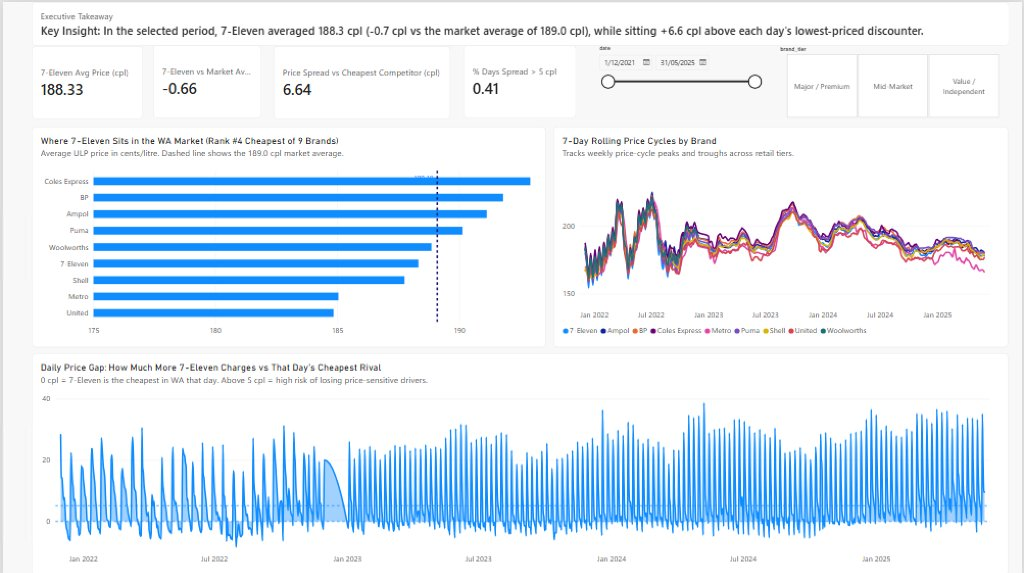

Layout of this report page (visuals, bound fields, positions):
{"tool":"powerbi","page":{"name":"Executive Overview ","canvas":[1920,1080],"ordinal":0},"visuals":[{"type":"slicer","fields":{"Values":["dim_date.date"]},"box":[1115.7,80.4,316.2,129.7],"z":0},{"type":"slicer","fields":{"Values":["dim_brand.brand_tier"]},"box":[1454.9,82.4,439.2,137.3],"z":1000},{"type":"cardVisual","fields":{"Data":["_Measures (2).7-Eleven Avg Price (cpl)"]},"box":[52.9,82.4,209.7,138.9],"z":2000},{"type":"cardVisual","fields":{"Data":["_Measures (2).7-Eleven vs Market Avg (cpl)"]},"box":[282.4,80.4,204.2,138.9],"z":3000},{"type":"cardVisual","fields":{"Data":["_Measures (2).Price Spread vs Cheapest Competitor (cpl)"]},"box":[509.8,82.4,333.3,138.9],"z":4000},{"type":"cardVisual","fields":{"Data":["_Measures (2).% Days Spread > 5 cpl"]},"box":[866.7,80.4,212.5,138.9],"z":5000},{"type":"clusteredBarChart","title":"Where 7-Eleven Sits in the WA Market (Rank #4 Cheapest of 9 Brands)","fields":{"Category":["dim_brand.brand_name"],"Y":["_Measures (2).Avg Retail Price (cpl)"]},"box":[52.9,235.3,968.6,415.7],"z":6000},{"type":"lineChart","title":"7-Day Rolling Price Cycles by Brand","fields":{"Category":["dim_date.date"],"Series":["dim_brand.brand_name"],"Y":["Avg(fact_daily_brand_pricing.rolling_7d_price_cpl)"]},"box":[1037.3,235.3,856.9,415.7],"z":7000},{"type":"areaChart","title":"Daily Price Gap: How Much More 7-Eleven Charges vs That Day''s Cheapest Rival","fields":{"Category":["dim_date.date"],"Y":["_Measures (2).Price Spread vs Cheapest Competitor (cpl)"]},"box":[53.2,660.7,1840.2,419],"z":8000},{"type":"cardVisual","fields":{"Data":["_Measures (2).Executive Takeaway"]},"box":[52.9,0,1841.2,82.4],"z":9000}]}

Visuals, with their boxes in screenshot pixels (x1, y1, x2, y2), scaled from the page's 1920x1080 canvas onto the 1024x573 screenshot:
slicer - dim_date.date: (595, 43, 764, 111)
slicer - dim_brand.brand_tier: (776, 44, 1010, 117)
cardVisual - _Measures (2).7-Eleven Avg Price (cpl): (28, 44, 140, 117)
cardVisual - _Measures (2).7-Eleven vs Market Avg (cpl): (151, 43, 260, 116)
cardVisual - _Measures (2).Price Spread vs Cheapest Competitor (cpl): (272, 44, 450, 117)
cardVisual - _Measures (2).% Days Spread > 5 cpl: (462, 43, 576, 116)
"Where 7-Eleven Sits in the WA Market (Rank #4 Cheapest of 9 Brands)" clusteredBarChart: (28, 125, 545, 345)
"7-Day Rolling Price Cycles by Brand" lineChart: (553, 125, 1010, 345)
"Daily Price Gap: How Much More 7-Eleven Charges vs That Day''s Cheapest Rival" areaChart: (28, 351, 1010, 572)
cardVisual - _Measures (2).Executive Takeaway: (28, 0, 1010, 44)
